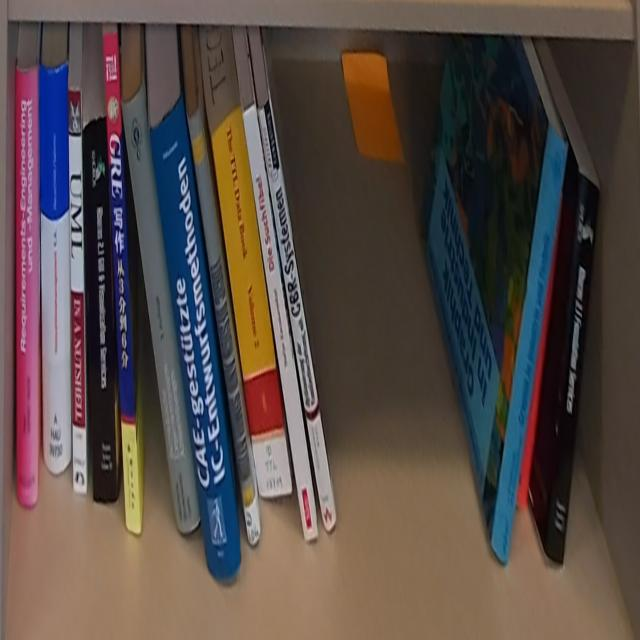Book Spine: (150, 95, 242, 584), (121, 84, 200, 536), (257, 96, 337, 534), (492, 126, 572, 562), (243, 101, 319, 543), (186, 108, 262, 549), (210, 105, 291, 498), (545, 173, 603, 570), (103, 32, 141, 539), (517, 187, 565, 509), (38, 62, 70, 482), (82, 114, 116, 506), (14, 70, 38, 512), (69, 90, 87, 492)
